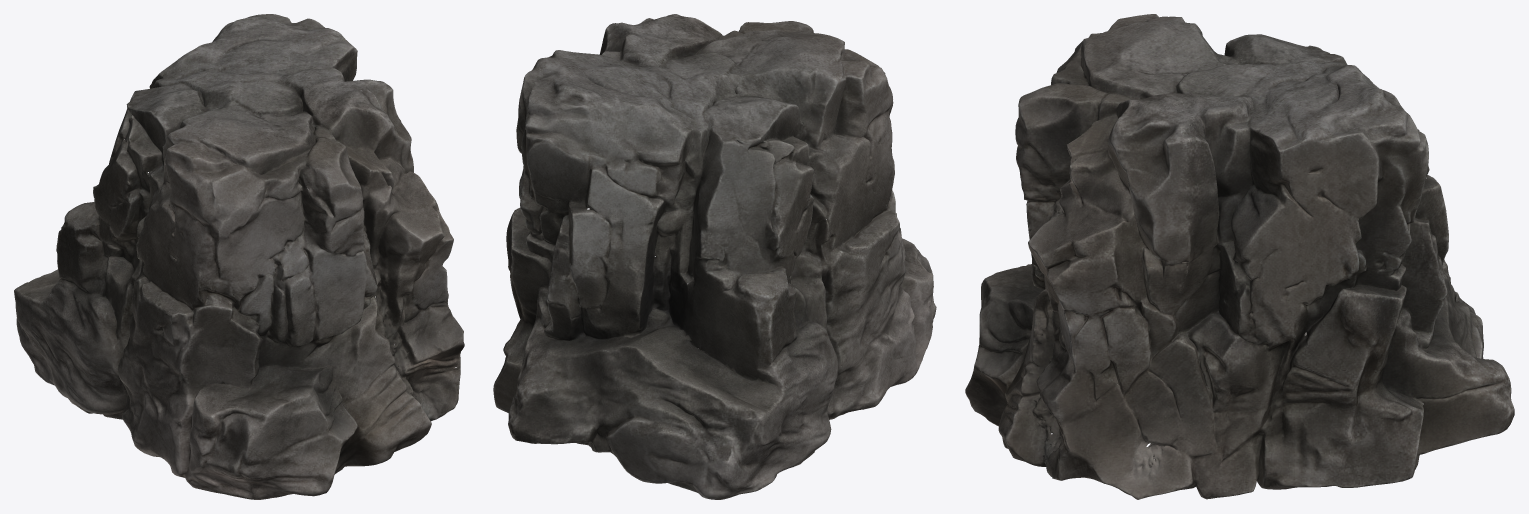
File: coastal-rock-cluster.glb
The picture shows the model from 3 angles, left to right: view 1: azimuth 30°, elevation 25°; view 2: azimuth 150°, elevation 25°; view 3: azimuth 270°, elevation 25°; orthographic projection. The views are drawn at different scales.
Visible parts, largest first — view 1: geom0; view 2: geom0; view 3: geom0.
Part boxes in pixels (left/top/right/bottom): geom0: left=14, top=14, right=464, bottom=499; geom0: left=493, top=14, right=936, bottom=499; geom0: left=965, top=14, right=1514, bottom=499.
Size of the model in its own units: 0.7086 by 0.7733 by 1.
1 material, 1 textured.
